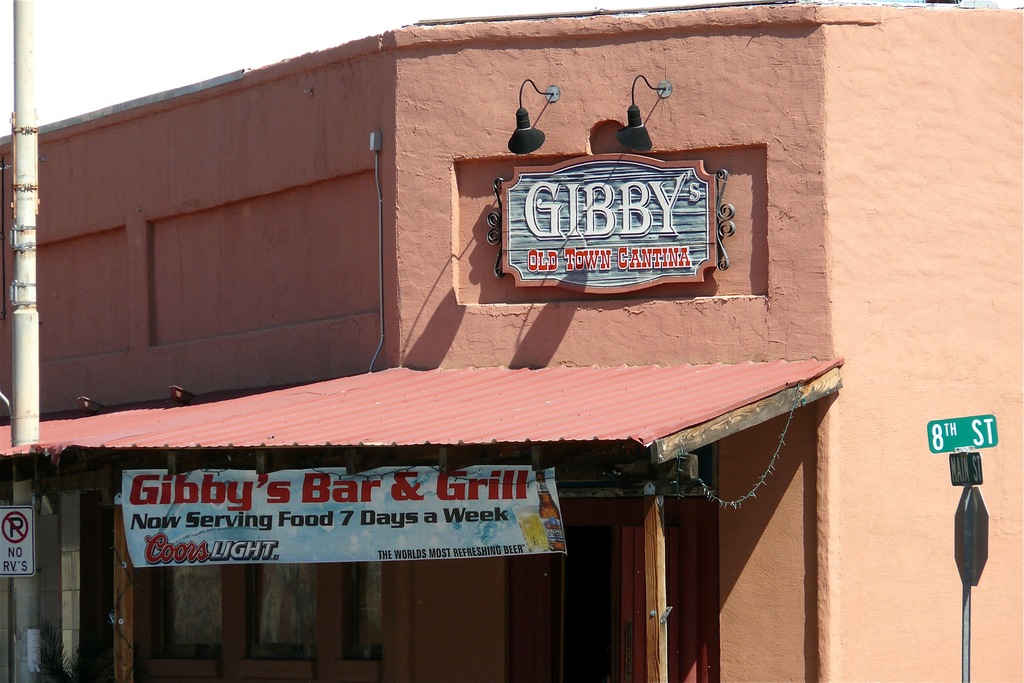signboard: (116, 465, 563, 561), (484, 154, 737, 287)
